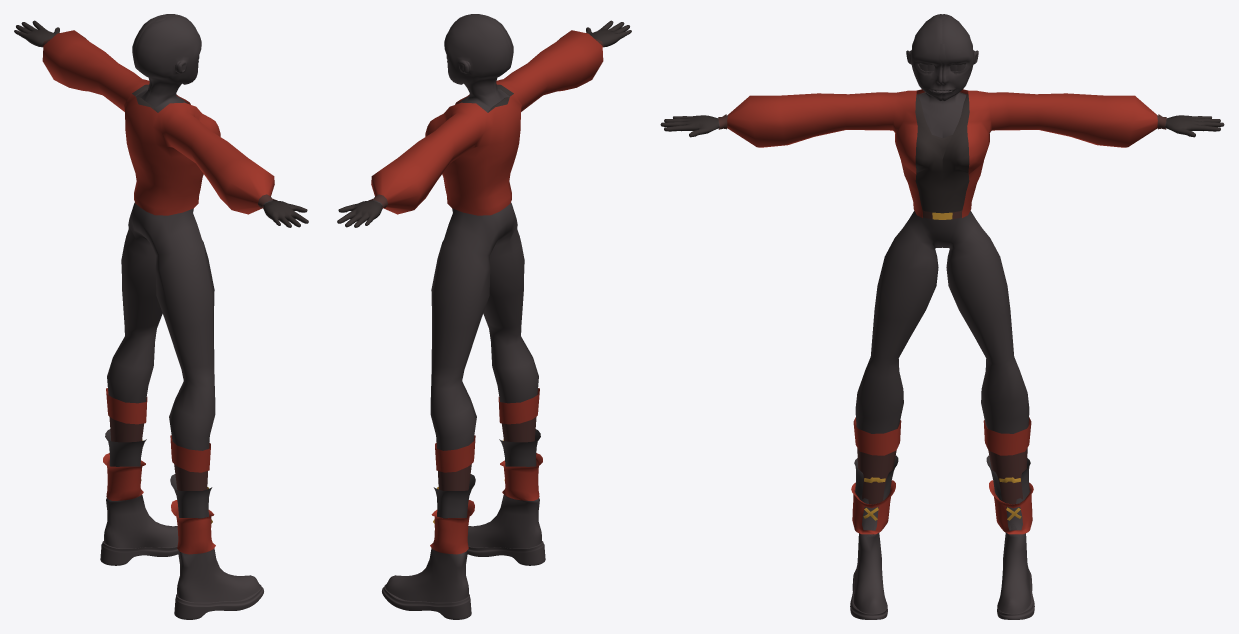
File: Thalya.fbx
3 views of the same model, side by side, from view 1: azimuth 30°, elevation 25°; view 2: azimuth 150°, elevation 25°; view 3: azimuth 270°, elevation 25° (orthographic).
Parts seen in each view (by area): view 1: pantalon; view 2: pantalon; view 3: pantalon.
Boxes of the visible parts, box(x1,y1,x2,y2) form: pantalon: box(14, 14, 308, 619); pantalon: box(337, 14, 631, 619); pantalon: box(660, 14, 1224, 619).
Bounding box in the file's own units: 0.7743 × 4.44 × 3.93.
